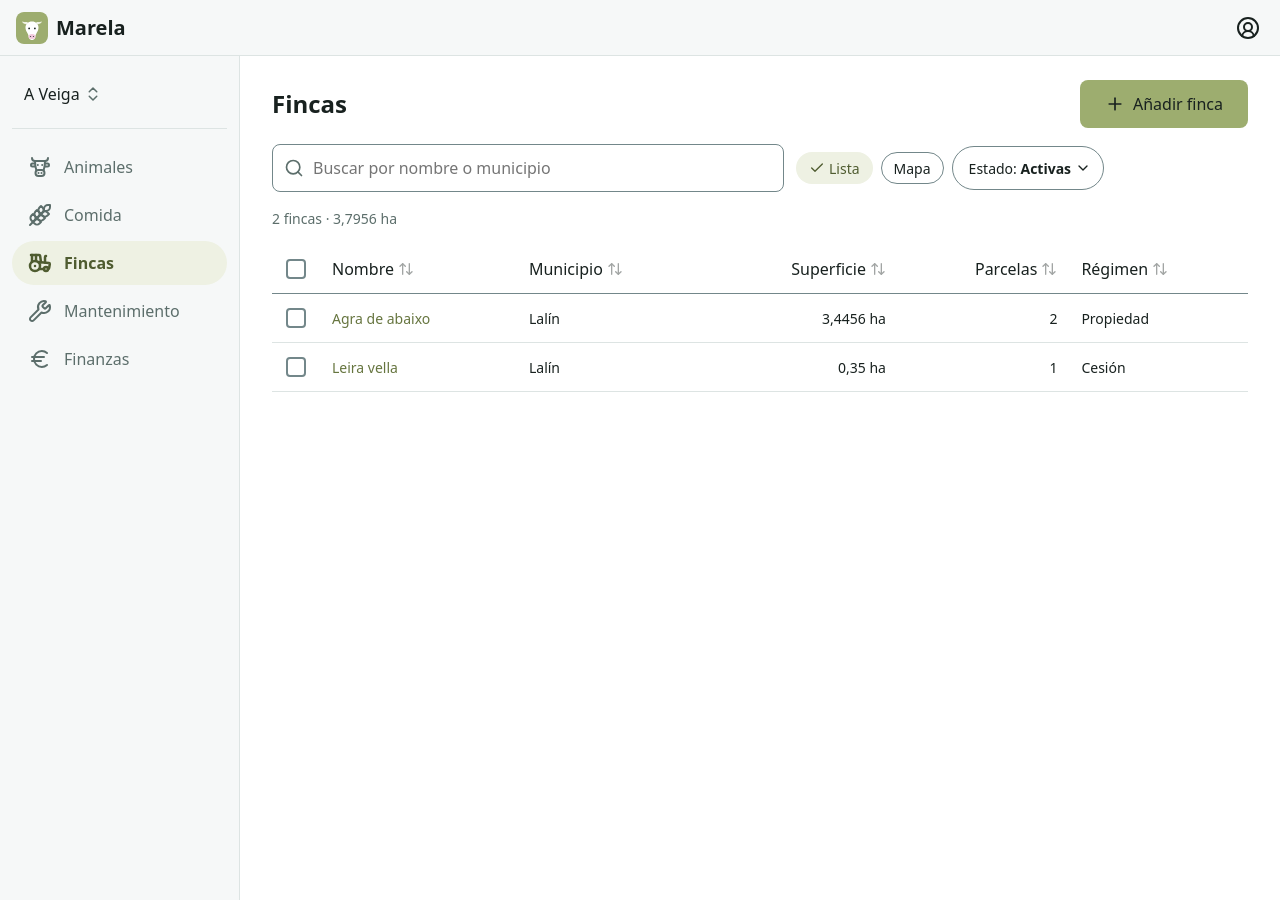
Scenario: labores › registra la misma labor en varias fincas marcadas en el listado
Click the checkbox named "Seleccionar todos".
click(296, 269)  # box [272,245,320,293]
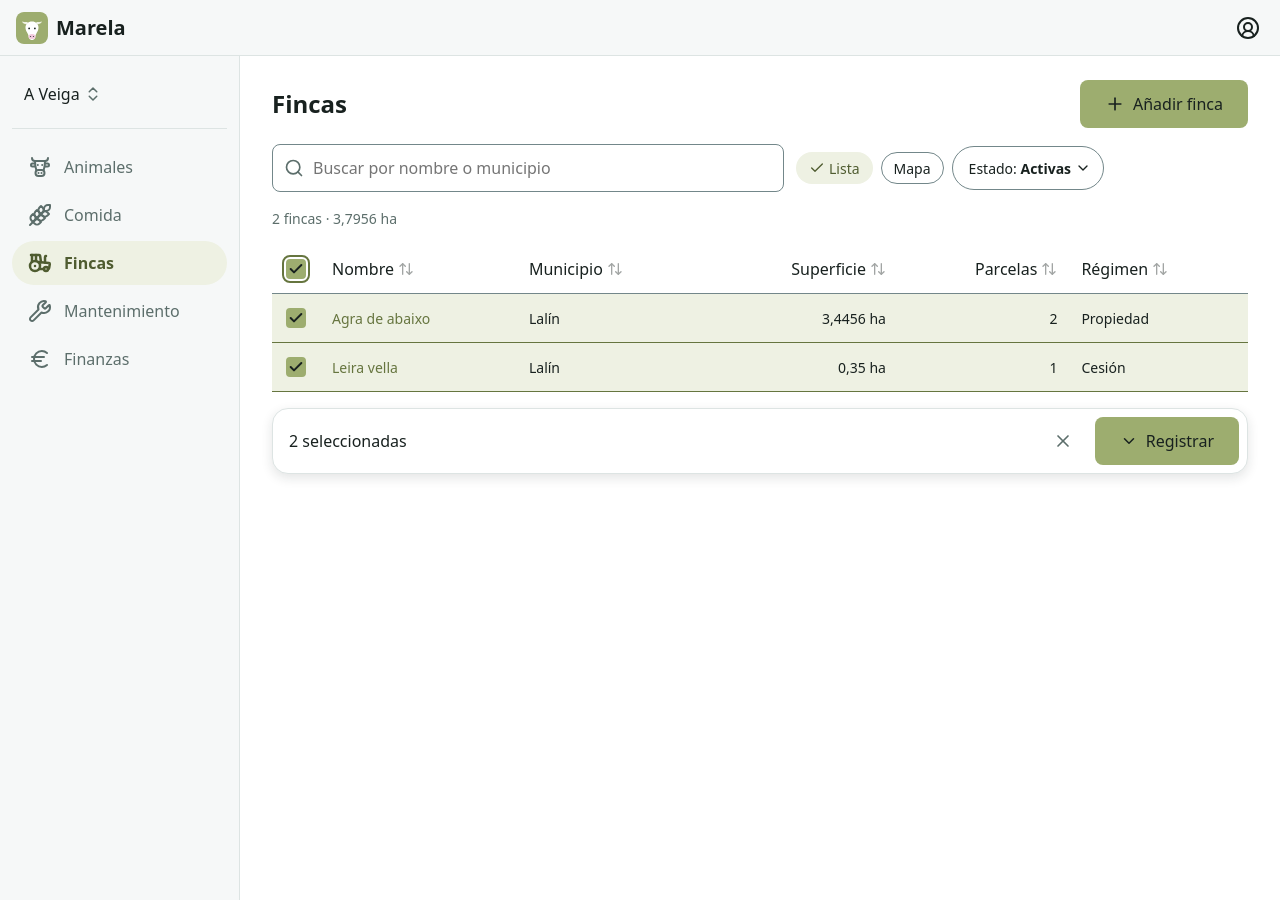
Expected: the text "2 seleccionadas" is shown, [289,429,407,453]
Click the button "Registrar".
click(1167, 441)  # box [1095,417,1239,465]
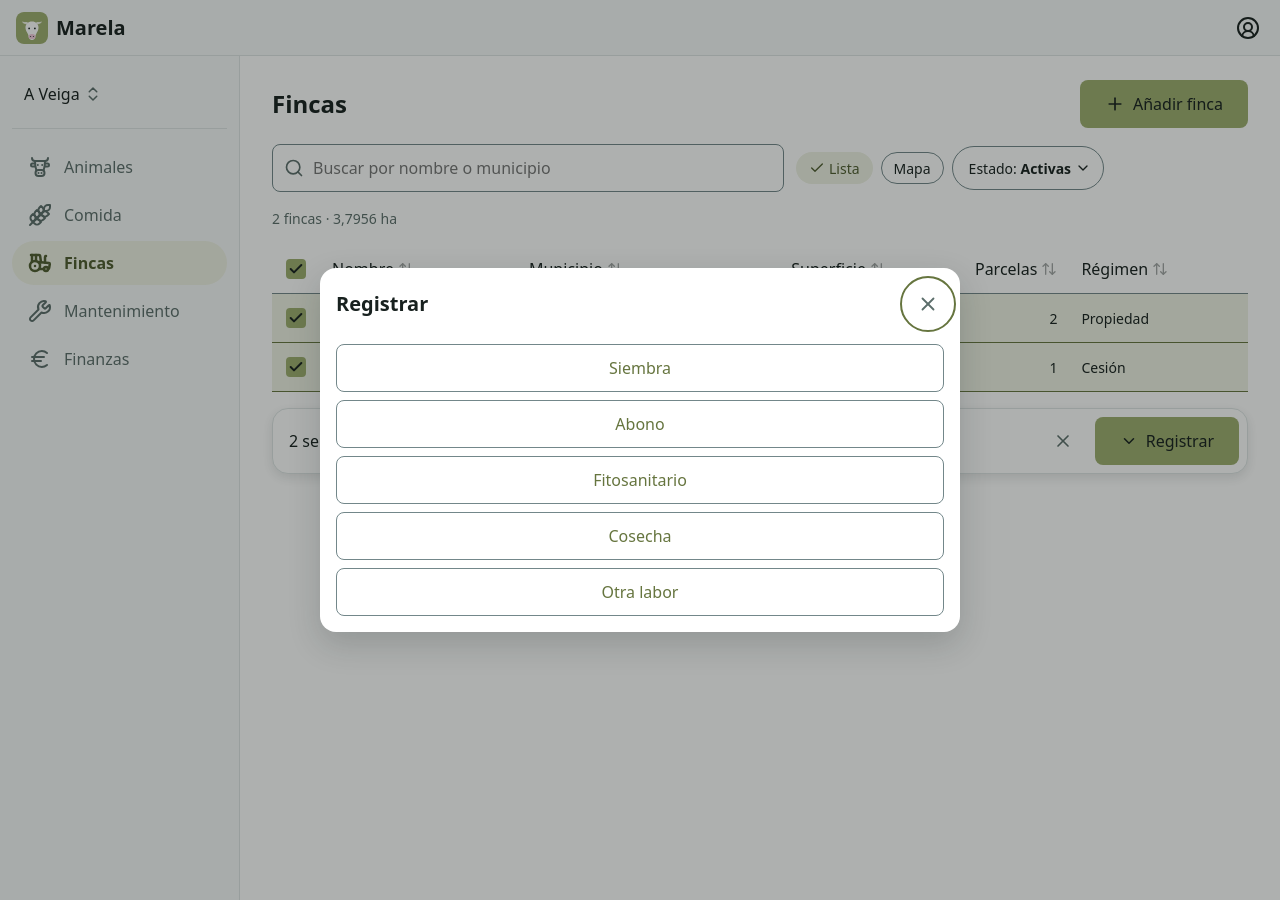
Click the button "Otra labor".
click(640, 592)  # box [336,568,944,616]
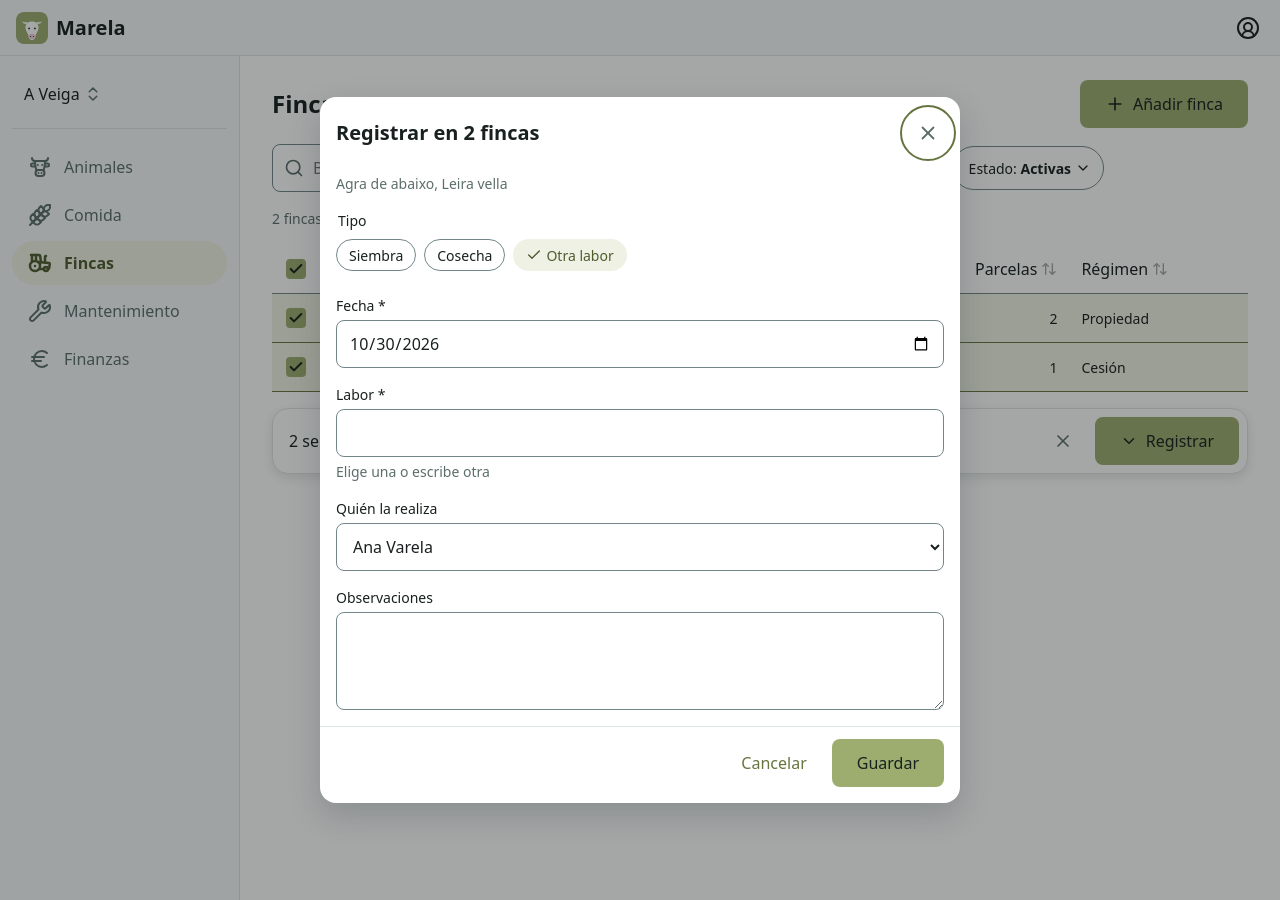
Type "Encalado" into the field labelled "Labor *".
click(640, 433); type("Encalado")  # box [336,409,944,457]
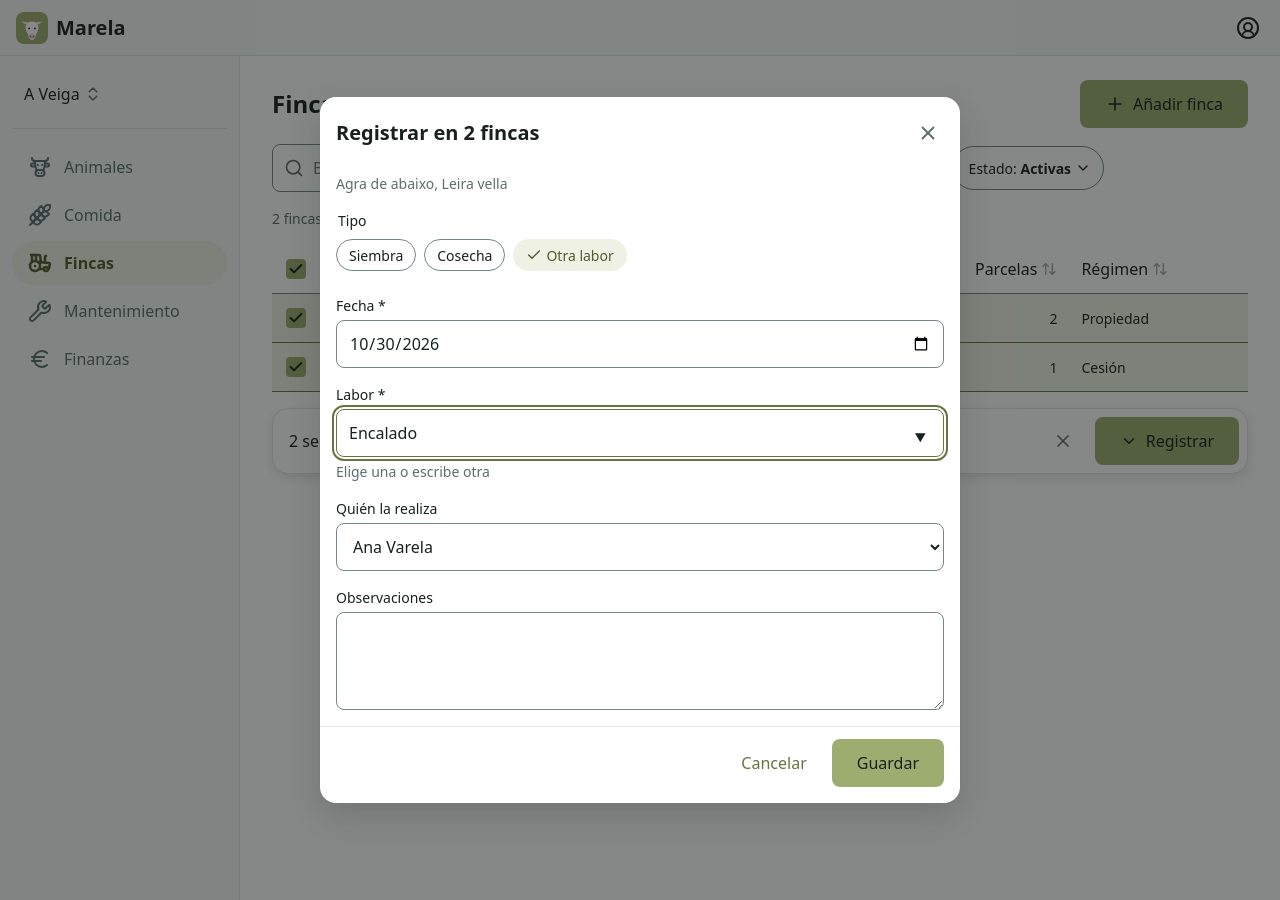
Click the button "Guardar".
click(888, 763)  # box [832,739,944,787]
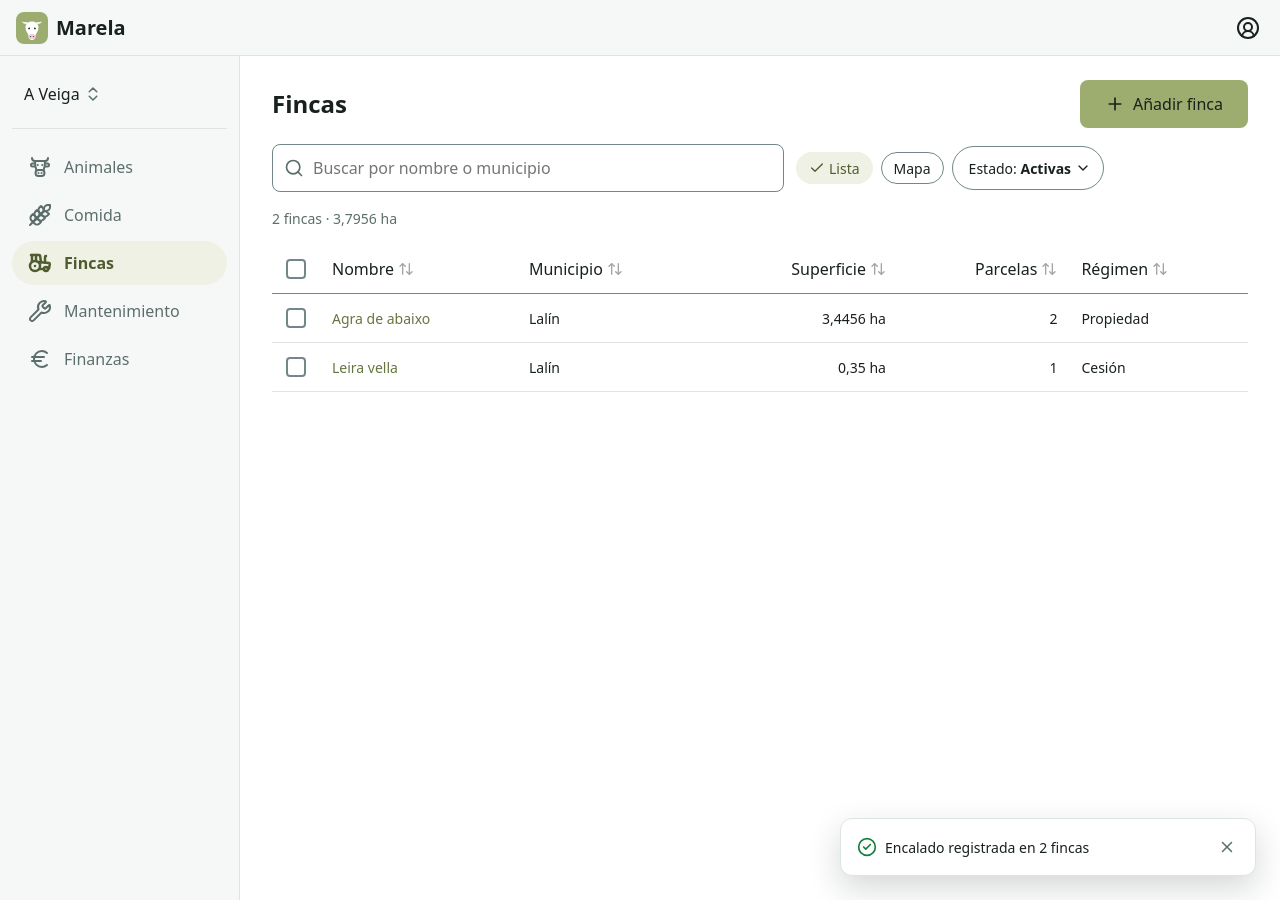
Expected: the text "Encalado registrada en 2 fincas" is shown, [885,838,1089,856]
